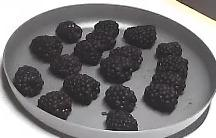berry: (62, 74, 99, 105), (37, 90, 71, 119), (143, 83, 177, 112), (13, 65, 43, 96), (104, 84, 136, 113), (100, 56, 134, 83), (29, 35, 63, 61), (109, 46, 142, 71), (49, 54, 81, 78), (123, 25, 156, 48), (74, 39, 102, 65), (152, 73, 185, 94), (156, 56, 187, 77), (106, 110, 137, 130), (56, 21, 81, 43), (86, 33, 115, 50), (94, 20, 118, 38), (156, 42, 181, 58)
